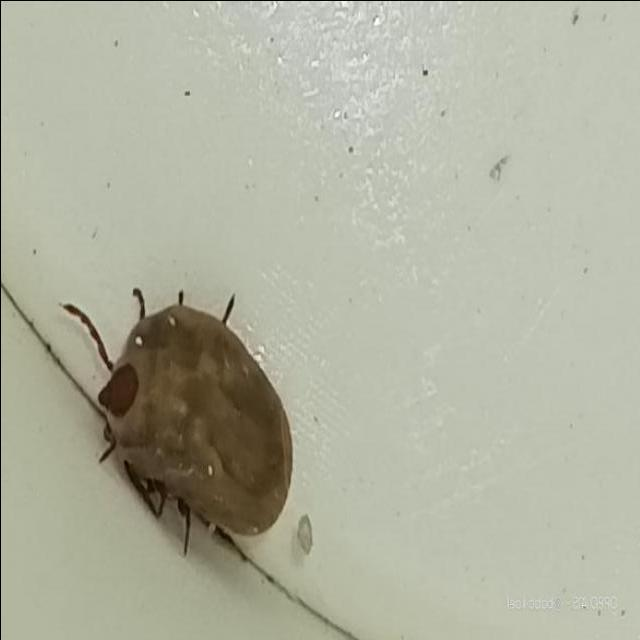Rhipicephalus Sanguineus-F-Fed: (59, 287, 293, 540)
